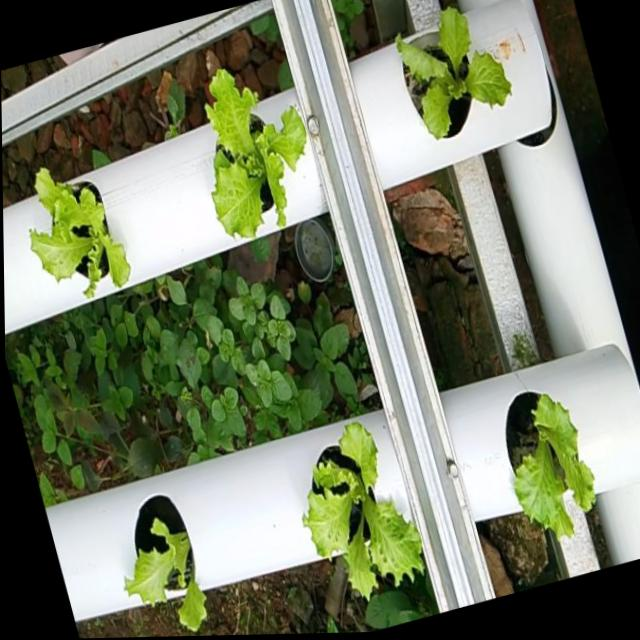Baby: (305, 423, 429, 603), (209, 71, 310, 240), (399, 9, 515, 142), (34, 167, 134, 298), (509, 394, 598, 540), (126, 493, 208, 629)
